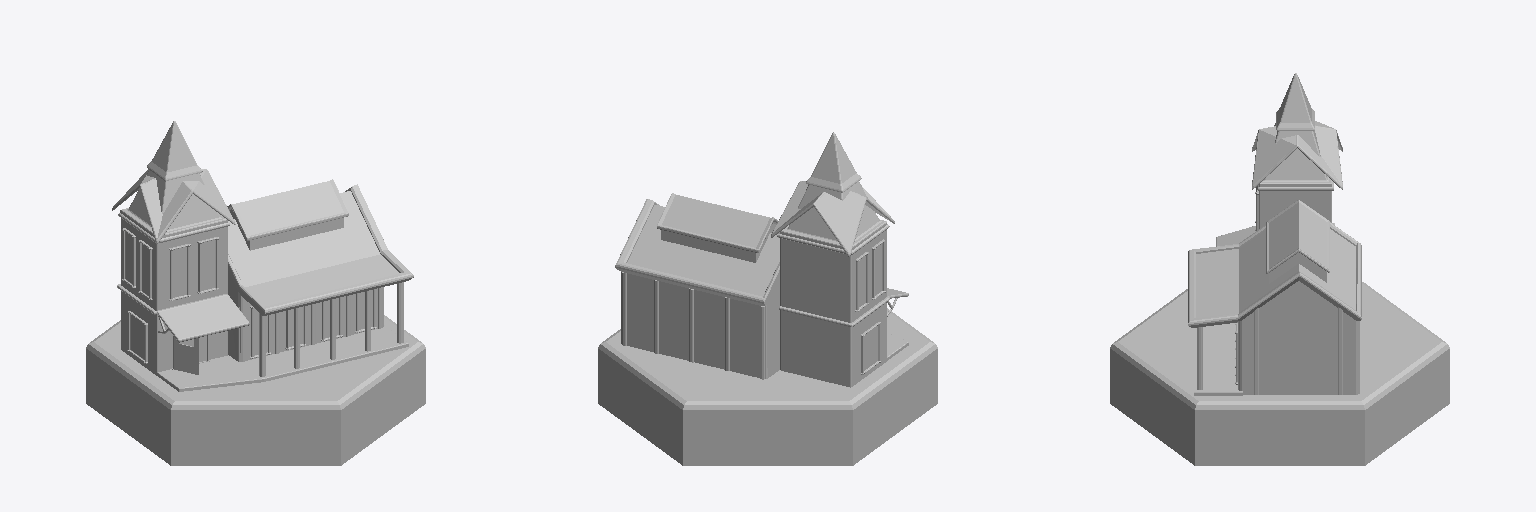
The model's file is SM_gare_ville.obj.
3 renders of one model, left to right at view 1: azimuth 30°, elevation 25°; view 2: azimuth 150°, elevation 25°; view 3: azimuth 270°, elevation 25°, orthographic.
Parts seen in each view (by area): view 1: Cylinder, gare_principal, tour, plancher, toit, porte, fennettre, fennettre.001, fennettre.004, fennettre.003, fennettre.002, fennettre.005 (+3 smaller); view 2: Cylinder, gare_principal, tour, toit, fennettre.004, fennettre.002, fennettre.003; view 3: Cylinder, gare_principal, tour, toit, plancher.
Boxes of the visible parts, x1=… form: Cylinder: x1=86, y1=315, x2=425, y2=465; gare_principal: x1=227, y1=179, x2=413, y2=361; tour: x1=117, y1=121, x2=249, y2=375; plancher: x1=157, y1=325, x2=408, y2=391; toit: x1=112, y1=169, x2=235, y2=243; porte: x1=172, y1=335, x2=209, y2=374; fennettre: x1=169, y1=244, x2=190, y2=300; fennettre.001: x1=197, y1=237, x2=218, y2=293; fennettre.004: x1=127, y1=311, x2=147, y2=363; fennettre.003: x1=122, y1=228, x2=135, y2=287; fennettre.002: x1=138, y1=240, x2=152, y2=299; fennettre.005: x1=250, y1=306, x2=271, y2=358; Cylinder: x1=598, y1=308, x2=937, y2=465; gare_principal: x1=615, y1=193, x2=779, y2=378; tour: x1=777, y1=132, x2=908, y2=387; toit: x1=771, y1=181, x2=894, y2=256; fennettre.004: x1=860, y1=322, x2=881, y2=374; fennettre.002: x1=871, y1=239, x2=885, y2=299; fennettre.003: x1=855, y1=252, x2=868, y2=311; Cylinder: x1=1110, y1=282, x2=1449, y2=465; gare_principal: x1=1188, y1=200, x2=1361, y2=394; tour: x1=1216, y1=73, x2=1334, y2=246; toit: x1=1252, y1=121, x2=1342, y2=189; plancher: x1=1194, y1=323, x2=1242, y2=395.
Bounding box in the file's own units: 8.66 × 9.57 × 10.